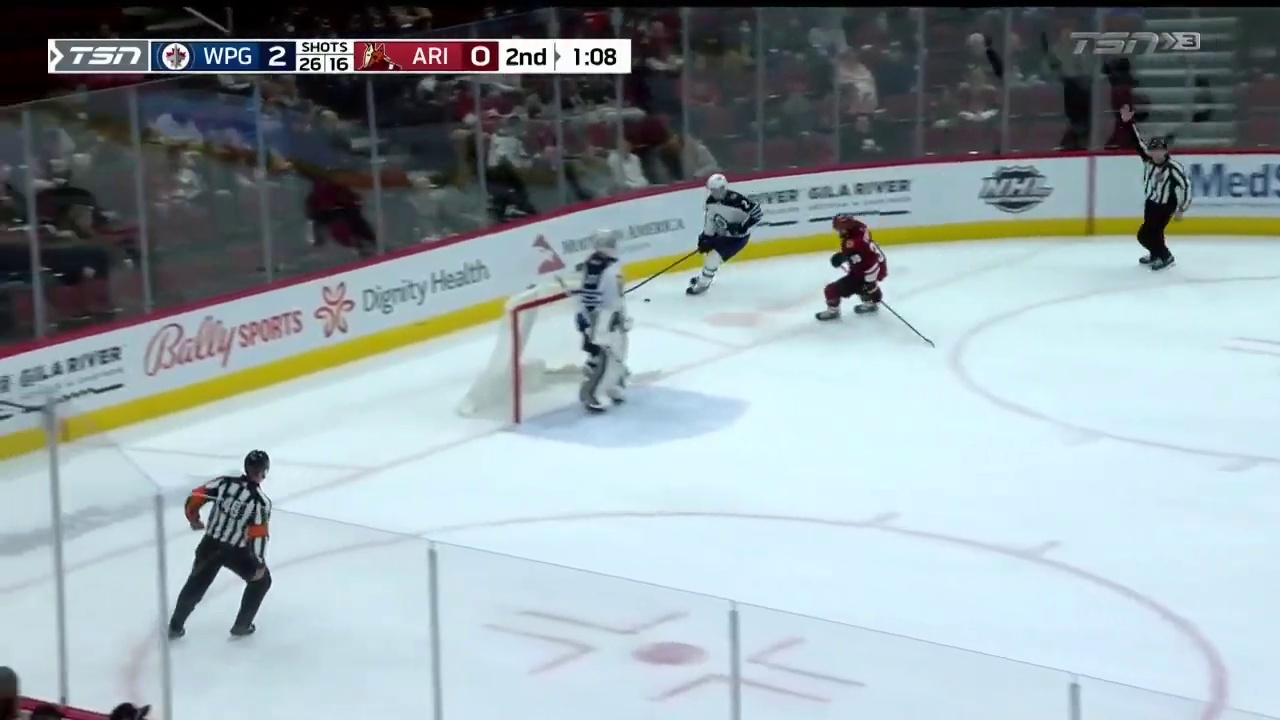goalie: (574, 228, 634, 414)
hockeyplayer: (685, 173, 763, 296), (815, 213, 888, 324)
referee: (167, 450, 272, 641), (1119, 104, 1192, 272)
